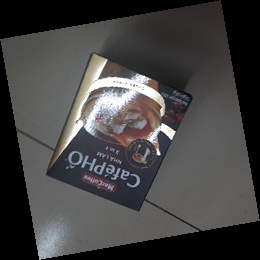CF pho: (44, 52, 193, 212)
